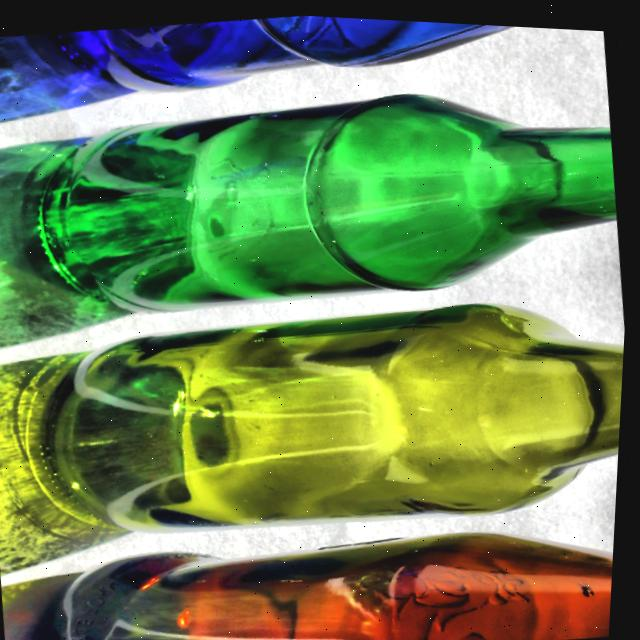glass: (47, 293, 628, 529), (34, 86, 619, 314), (36, 526, 619, 640), (55, 12, 517, 93)
